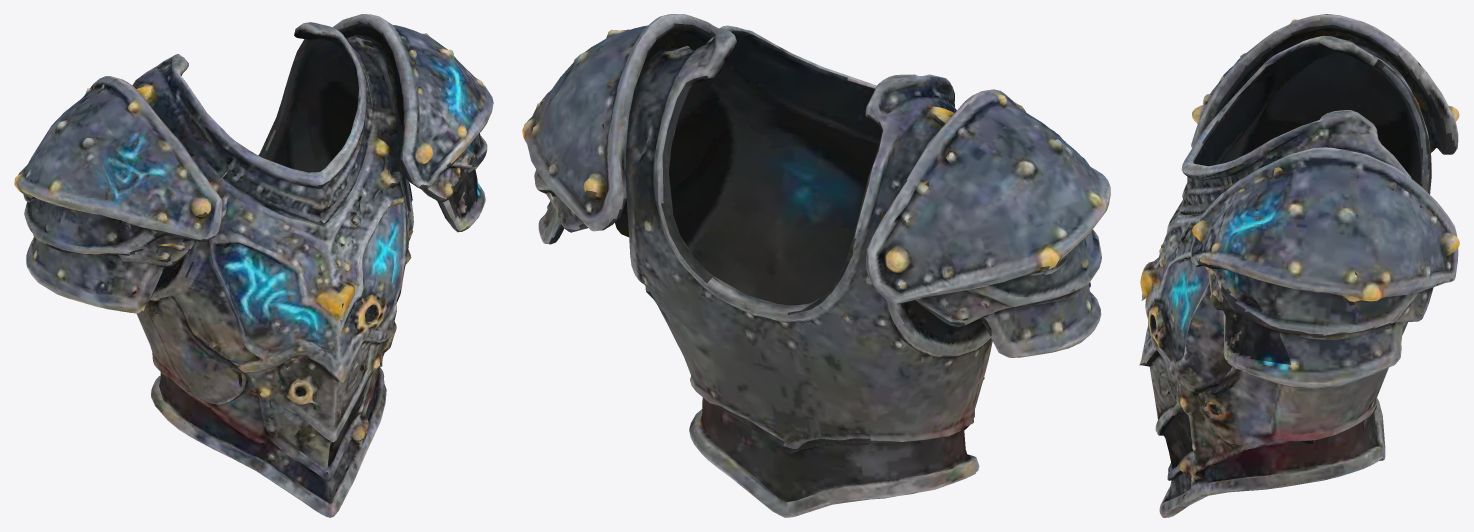
File: artifice-peitoral.glb
3 views of the same model, side by side, from view 1: azimuth 30°, elevation 25°; view 2: azimuth 150°, elevation 25°; view 3: azimuth 270°, elevation 25° (orthographic). The views are drawn at different scales.
Parts seen in each view (by area): view 1: tripo_node_94122f6e-b91b-483c-abe2-4705110976ae; view 2: tripo_node_94122f6e-b91b-483c-abe2-4705110976ae; view 3: tripo_node_94122f6e-b91b-483c-abe2-4705110976ae.
Part boxes in pixels (left/top/right/bottom): tripo_node_94122f6e-b91b-483c-abe2-4705110976ae: left=14, top=14, right=493, bottom=517; tripo_node_94122f6e-b91b-483c-abe2-4705110976ae: left=522, top=14, right=1110, bottom=517; tripo_node_94122f6e-b91b-483c-abe2-4705110976ae: left=1139, top=14, right=1459, bottom=517.
Size of the model in its own units: 0.9744 by 0.8696 by 0.5735.
Materials: 1 (1 with a texture image).
